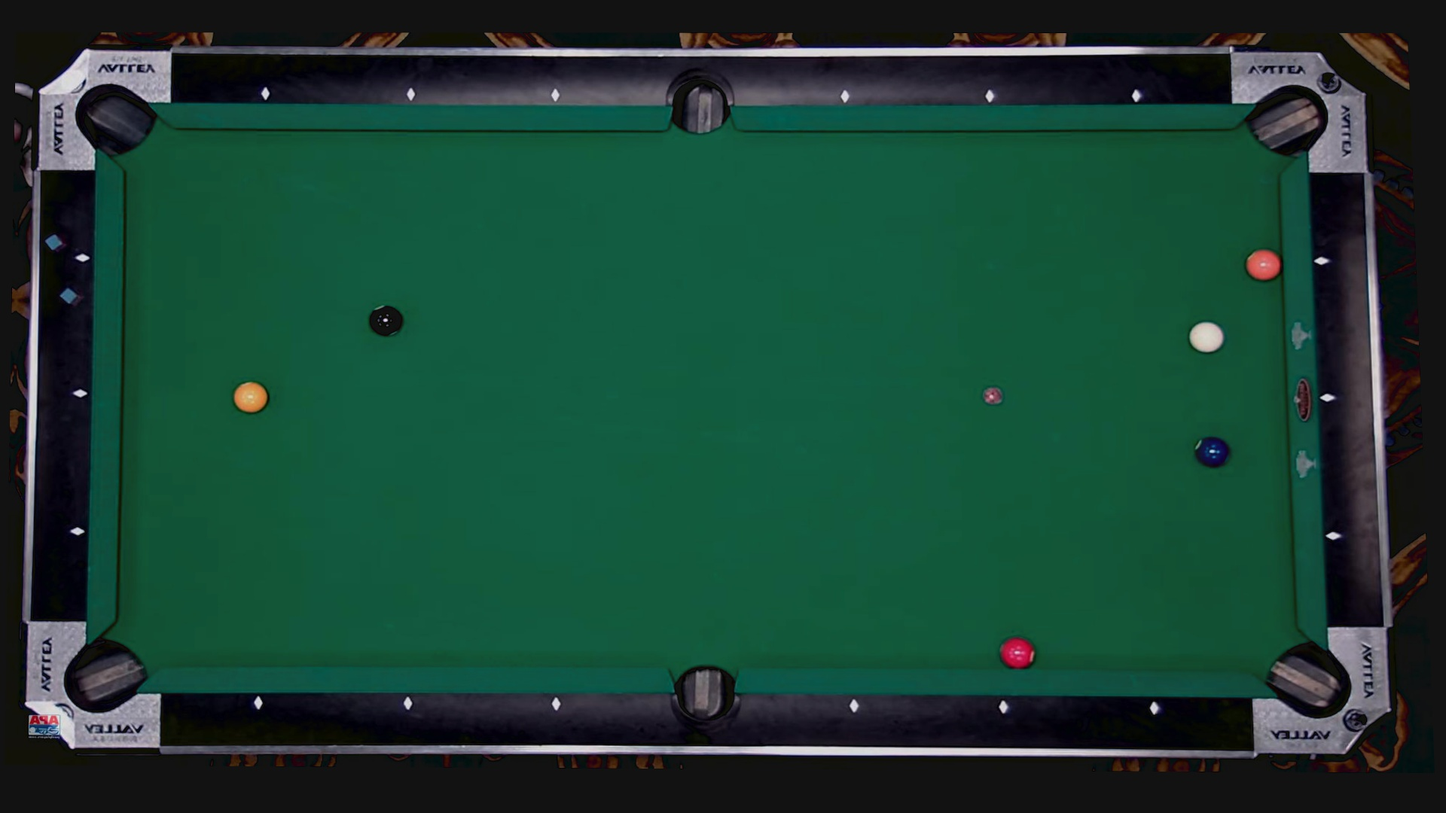Black: (367, 303, 404, 338)
Cue: (1188, 320, 1223, 355)
Solid: (1322, 392, 1333, 403), (1317, 254, 1328, 265), (549, 89, 560, 100), (405, 89, 416, 100), (73, 525, 84, 536), (253, 698, 264, 709), (1149, 703, 1160, 714), (1329, 532, 1340, 542), (1130, 90, 1140, 101), (985, 90, 995, 101), (840, 92, 851, 102), (77, 254, 87, 265), (75, 389, 85, 400), (403, 699, 414, 709), (850, 701, 861, 711), (1000, 702, 1010, 713), (261, 89, 271, 99), (552, 699, 562, 709)
Striped: (1245, 247, 1281, 282), (233, 380, 269, 414), (999, 636, 1034, 670), (1194, 435, 1229, 468)
